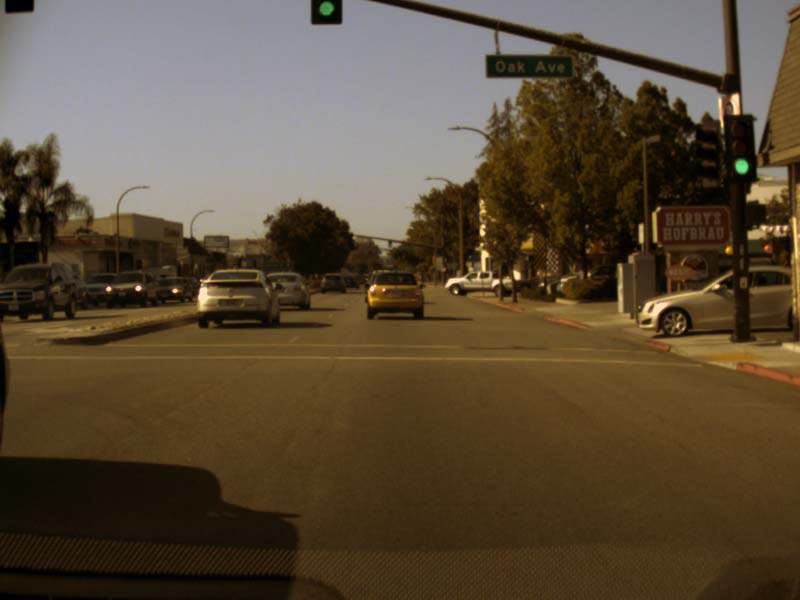Green: (722, 114, 757, 179)
